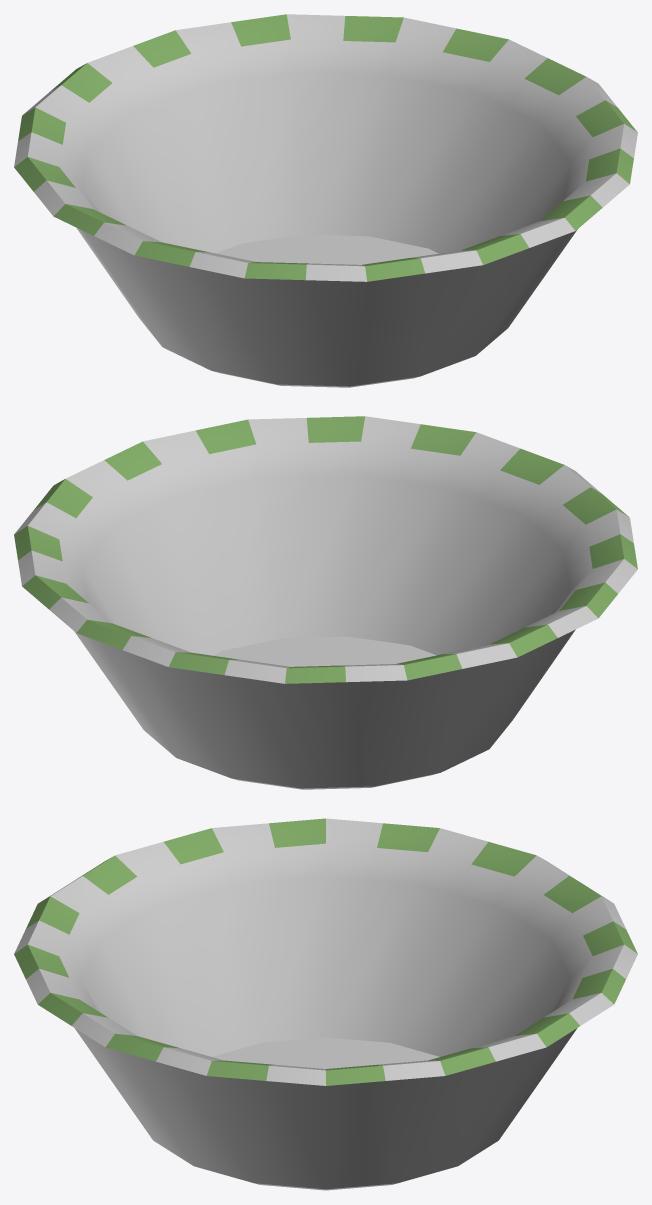
The model's file is Bowl_02.fbx.
3 views of the same model, one above another, from view 1: azimuth 30°, elevation 25°; view 2: azimuth 150°, elevation 25°; view 3: azimuth 270°, elevation 25° (orthographic).
Visible parts, largest first — view 1: Bowl_02; view 2: Bowl_02; view 3: Bowl_02.
Part boxes in pixels (bbox=[...]): Bowl_02: bbox=[14, 14, 637, 387]; Bowl_02: bbox=[14, 416, 637, 789]; Bowl_02: bbox=[14, 818, 637, 1190].
Size of the model in its own units: 0.1306 by 0.0399 by 0.1306.
